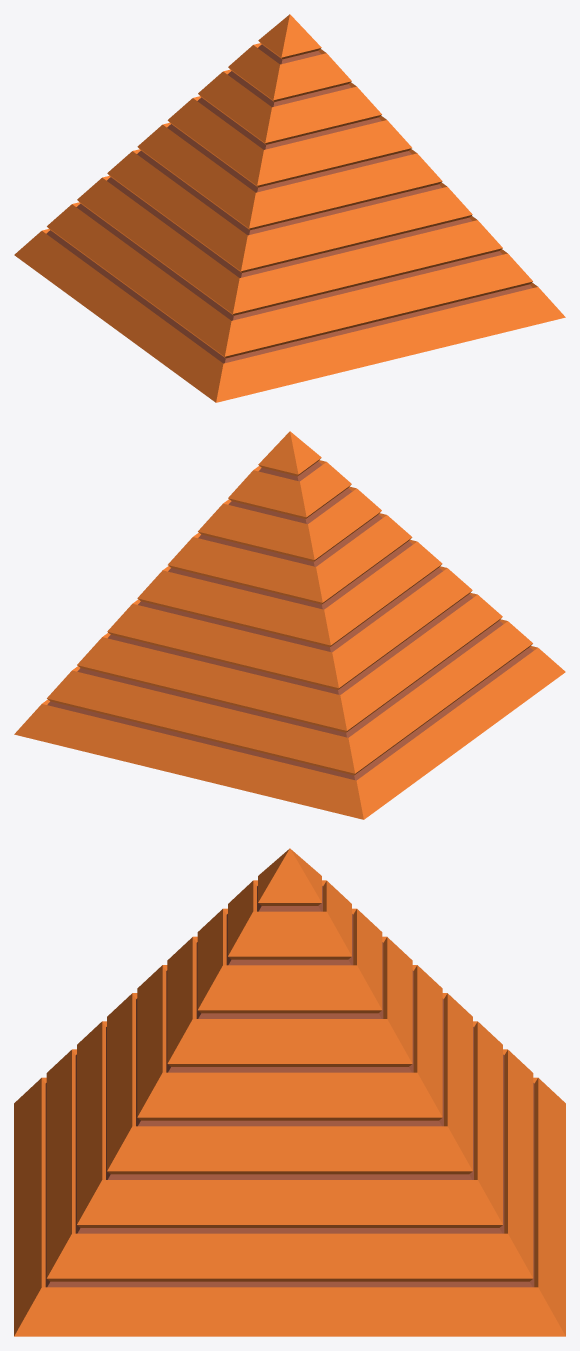
Rendered from desert_pyramid.fbx.
The picture shows the model from 3 angles, top to bottom: view 1: azimuth 30°, elevation 25°; view 2: azimuth 150°, elevation 25°; view 3: azimuth 270°, elevation 25°; orthographic projection. The views are drawn at different scales.
Visible parts, largest first — view 1: desert_pyramid; view 2: desert_pyramid; view 3: desert_pyramid.
Boxes of the visible parts, <box> form: desert_pyramid: <box>14,14,565,402</box>; desert_pyramid: <box>14,431,565,819</box>; desert_pyramid: <box>14,848,565,1336</box>.
Size of the model in its own units: 200 by 149 by 200.
